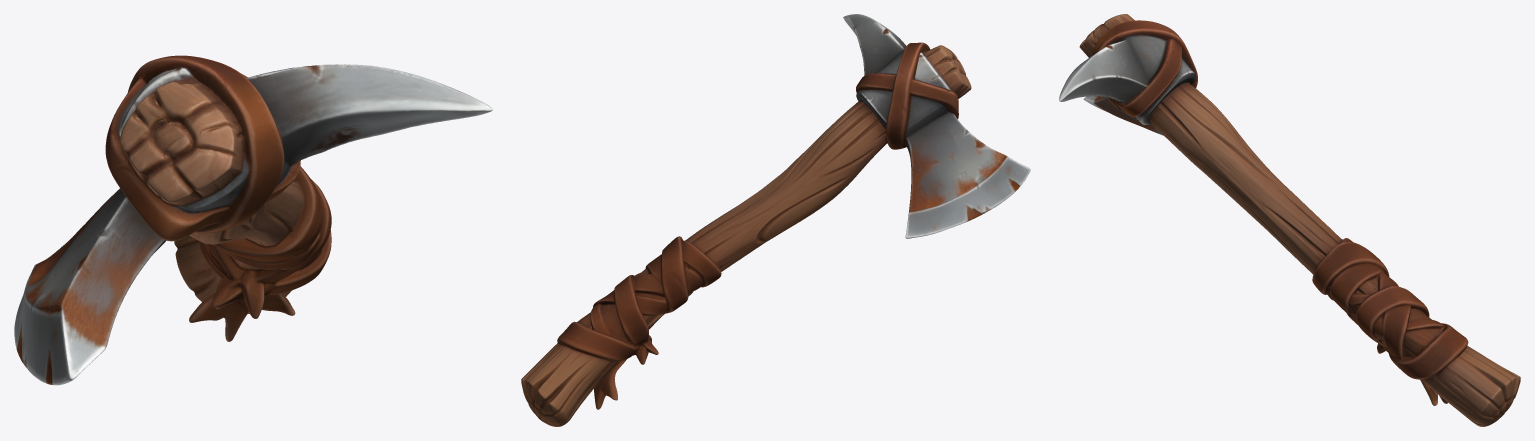
File: Meshy_AI_Scrap_Axe_Model_0217091349_texture.fbx
3 views of the same model, side by side, from view 1: azimuth 30°, elevation 25°; view 2: azimuth 150°, elevation 25°; view 3: azimuth 270°, elevation 25° (orthographic). The views are drawn at different scales.
Parts seen in each view (by area): view 1: Mesh_0; view 2: Mesh_0; view 3: Mesh_0.
Boxes of the visible parts, left/top/right/bottom form: Mesh_0: left=14, top=55, right=492, bottom=385; Mesh_0: left=521, top=14, right=1030, bottom=426; Mesh_0: left=1059, top=14, right=1520, bottom=426.
Size of the model in its own units: 151 by 139 by 190.
Materials: 1 (1 with a texture image).
